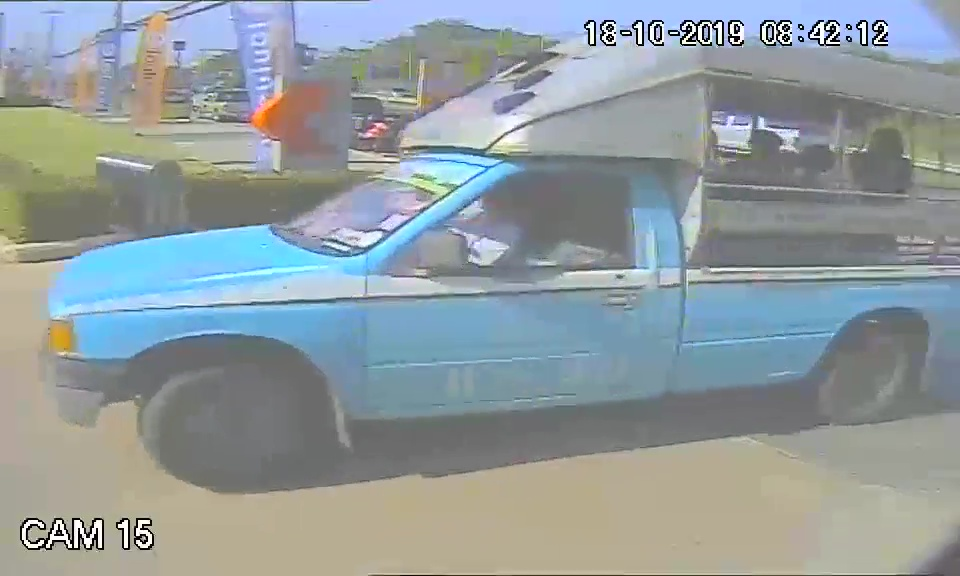pickup: (48, 137, 946, 488)
